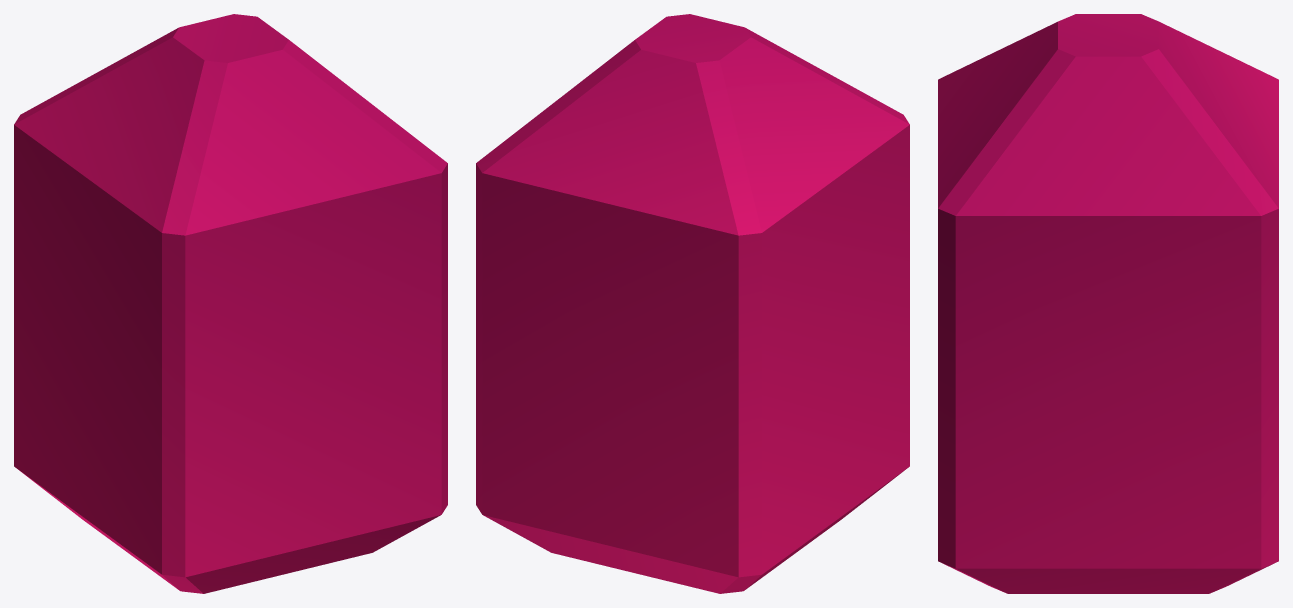
File: Helvite.fbx
3 renders of one model, left to right at view 1: azimuth 30°, elevation 25°; view 2: azimuth 150°, elevation 25°; view 3: azimuth 270°, elevation 25°, orthographic. The views are drawn at different scales.
Parts seen in each view (by area): view 1: HELVITE.001; view 2: HELVITE.001; view 3: HELVITE.001.
Boxes of the visible parts, x1,y1,x2,y2 form: HELVITE.001: (14,14,447,593); HELVITE.001: (476,14,909,593); HELVITE.001: (938,14,1278,593).
Bounding box in the file's own units: 118 × 194 × 118.
1 material, 1 textured.
